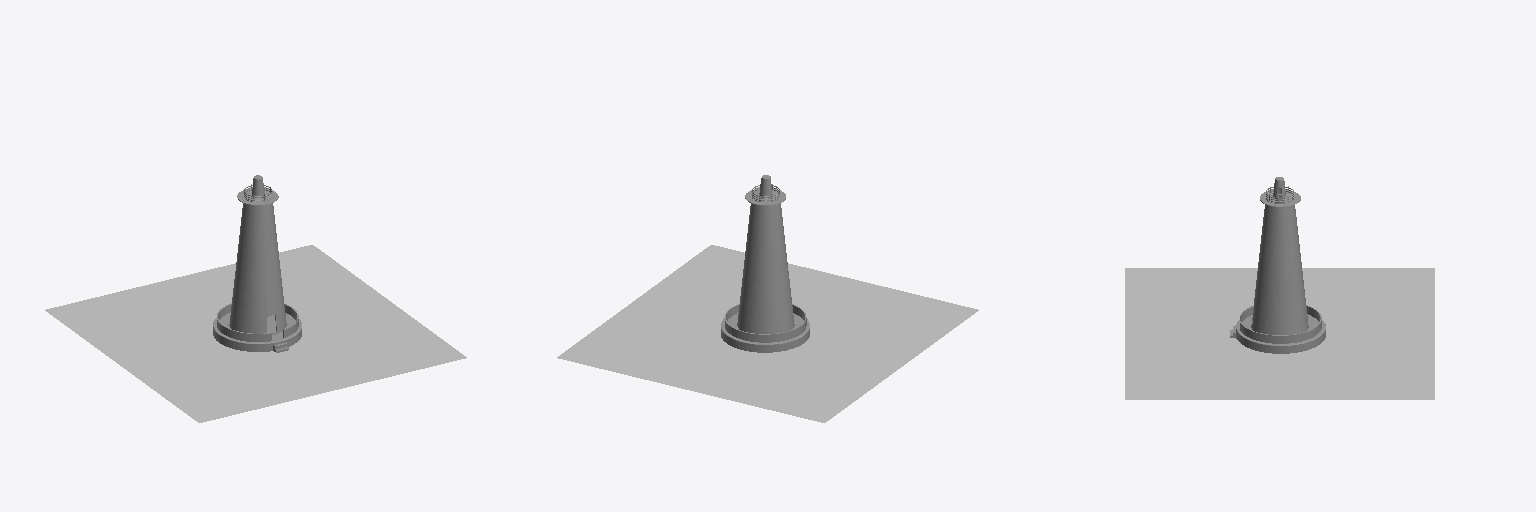
Rendered from lighthouse.obj.
3 renders of one model, left to right at view 1: azimuth 30°, elevation 25°; view 2: azimuth 150°, elevation 25°; view 3: azimuth 270°, elevation 25°, orthographic.
Parts seen in each view (by area): view 1: Plane, 1floor.001_Cylinder.001, 1floor_Cylinder; view 2: Plane, 1floor.001_Cylinder.001, 1floor_Cylinder; view 3: Plane, 1floor.001_Cylinder.001, 1floor_Cylinder.
Boxes of the visible parts, <box> form: Plane: <box>45,245,466,422</box>; 1floor.001_Cylinder.001: <box>229,197,286,334</box>; 1floor_Cylinder: <box>213,188,301,352</box>; Plane: <box>557,245,978,422</box>; 1floor.001_Cylinder.001: <box>737,197,794,333</box>; 1floor_Cylinder: <box>721,188,809,352</box>; Plane: <box>1125,268,1434,399</box>; 1floor.001_Cylinder.001: <box>1251,195,1308,334</box>; 1floor_Cylinder: <box>1230,190,1325,353</box>.
Size of the model in its own units: 31.45 by 17.58 by 31.45.